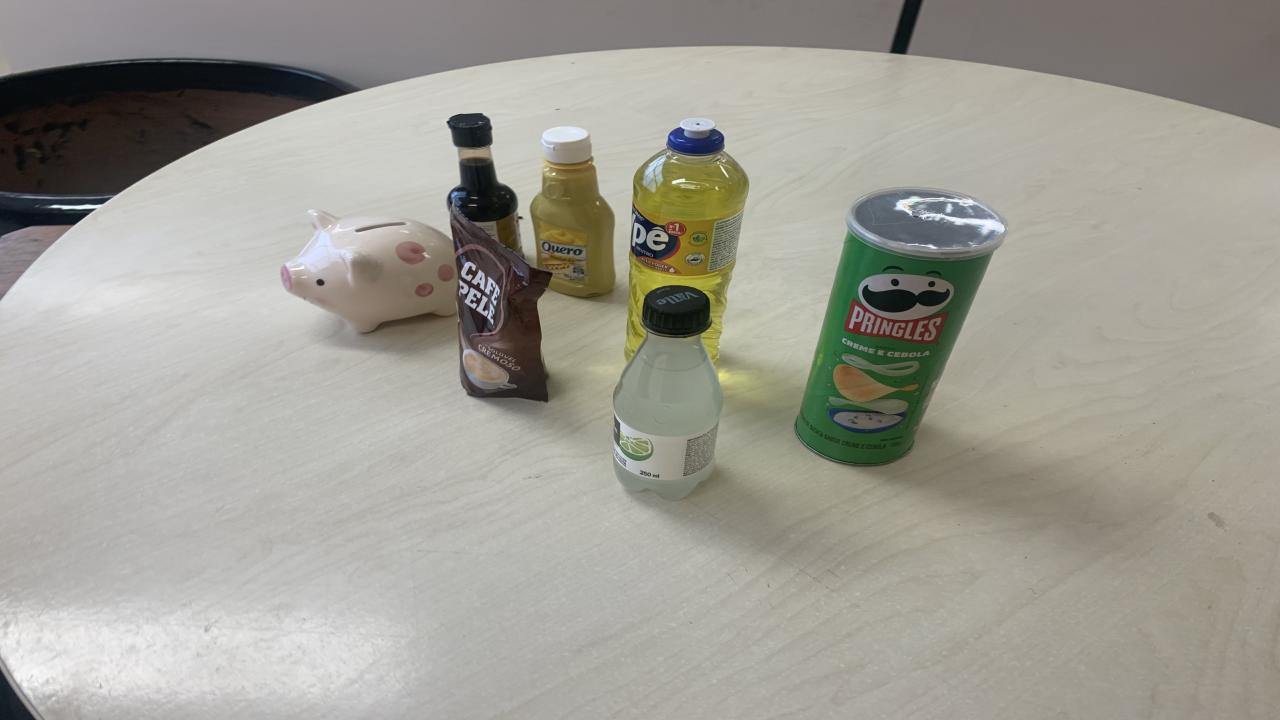Coffee-Pantry_Items: (450, 206, 550, 401)
Detergent-Cleanup_Items: (625, 118, 750, 360)
English_Sauce-Pantry_Items: (448, 112, 522, 255)
Mustard-Pantry_Items: (530, 128, 615, 296)
Pig_Safe-Miscellaneous: (280, 210, 458, 332)
Pringles-Snacks: (795, 189, 1008, 465)
Soda-Drinks: (612, 285, 722, 501)
